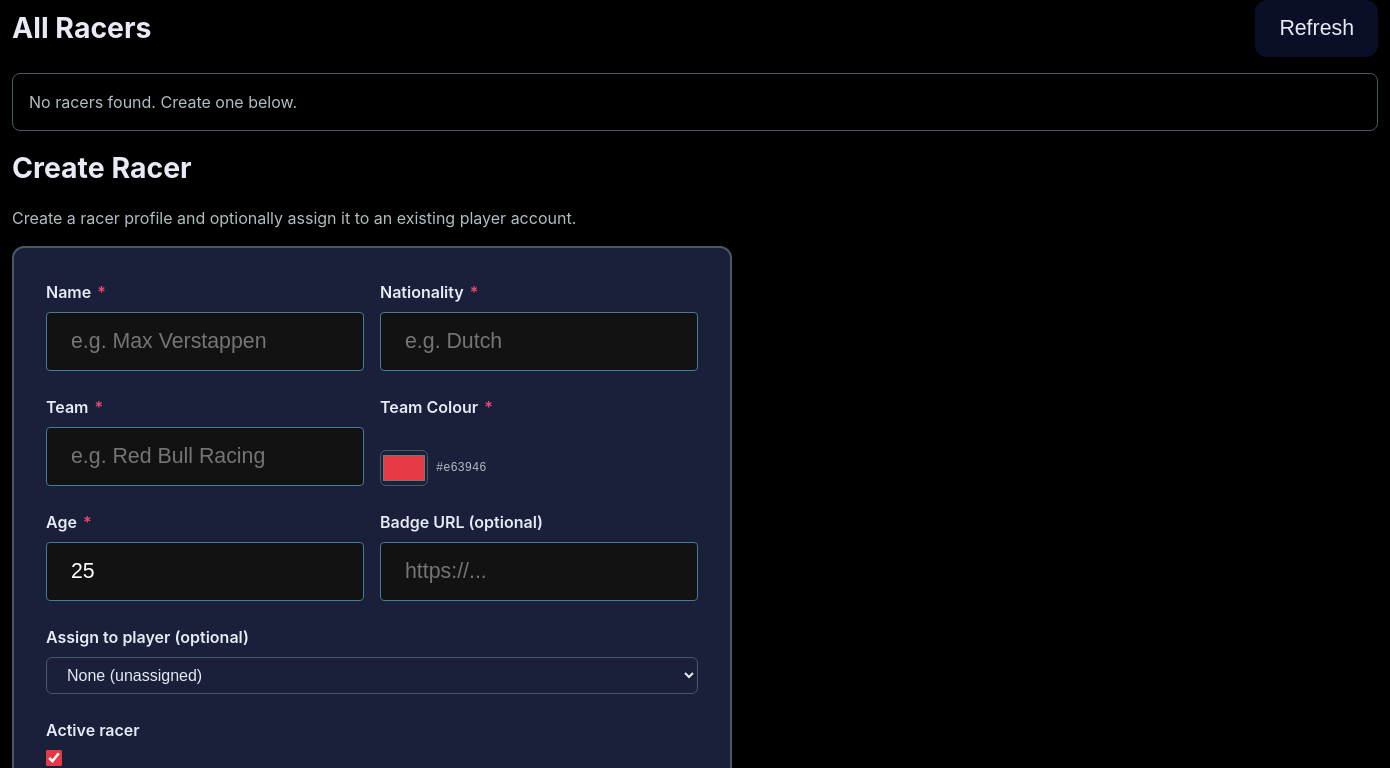
Test: RacerManagementTab › Create racer › clears validation errors when the user fixes the invalid field
Step 1. Type "A" into the field with placeholder "e.g. Max Verstappen" → (205, 341), box top-left (46, 312), bottom-right (364, 371)
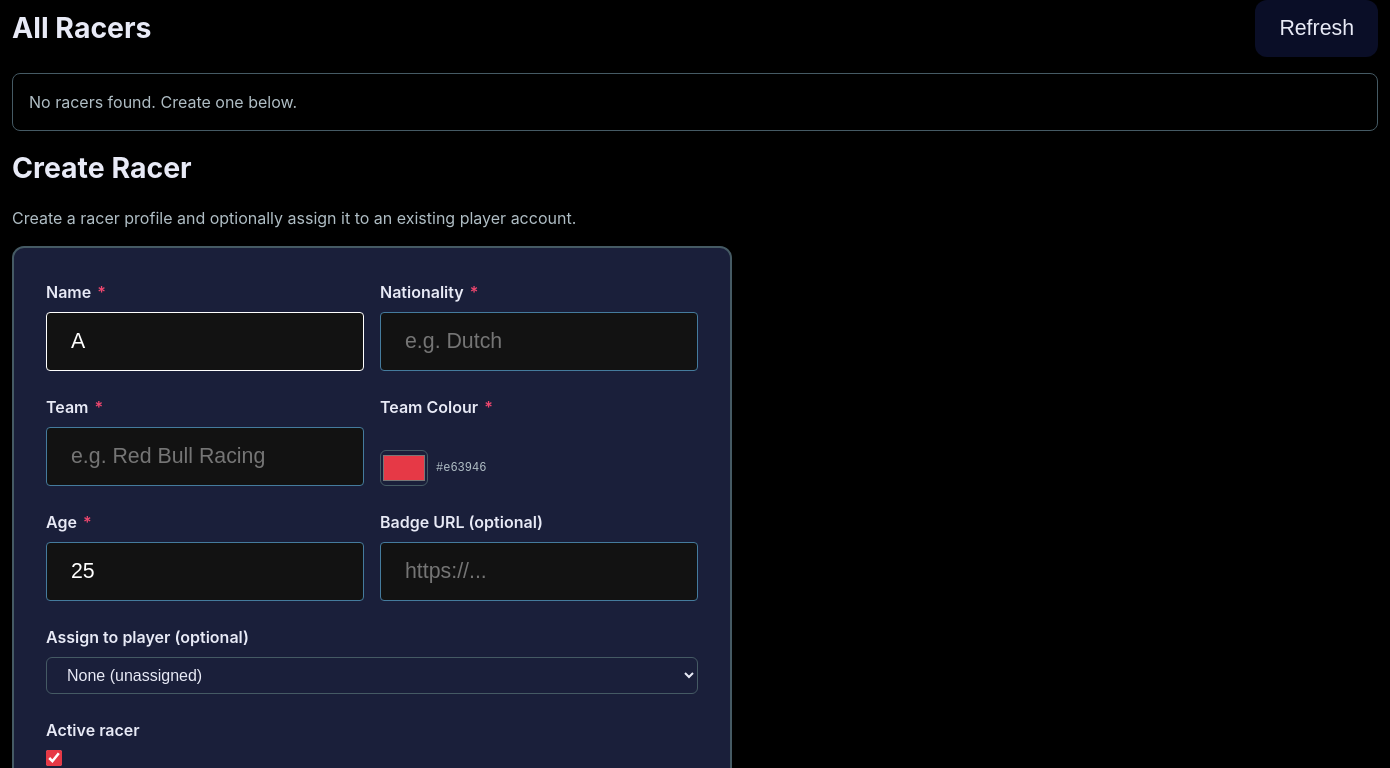
Step 2. Type "Spanish" into the field with placeholder "e.g. Dutch" → (539, 341), box top-left (380, 312), bottom-right (698, 371)
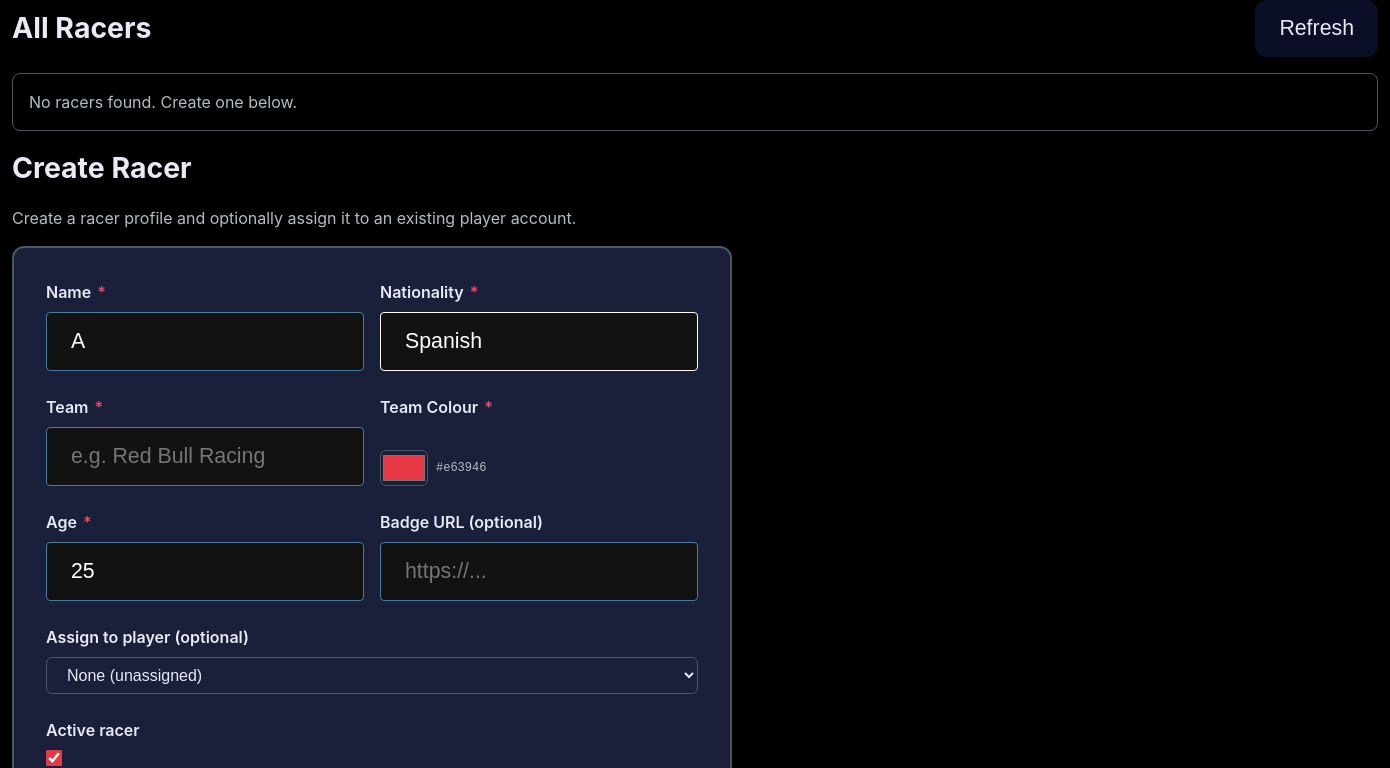
Step 3. Type "Ferrari" into the field with placeholder "e.g. Red Bull Racing" → (205, 456), box top-left (46, 427), bottom-right (364, 486)
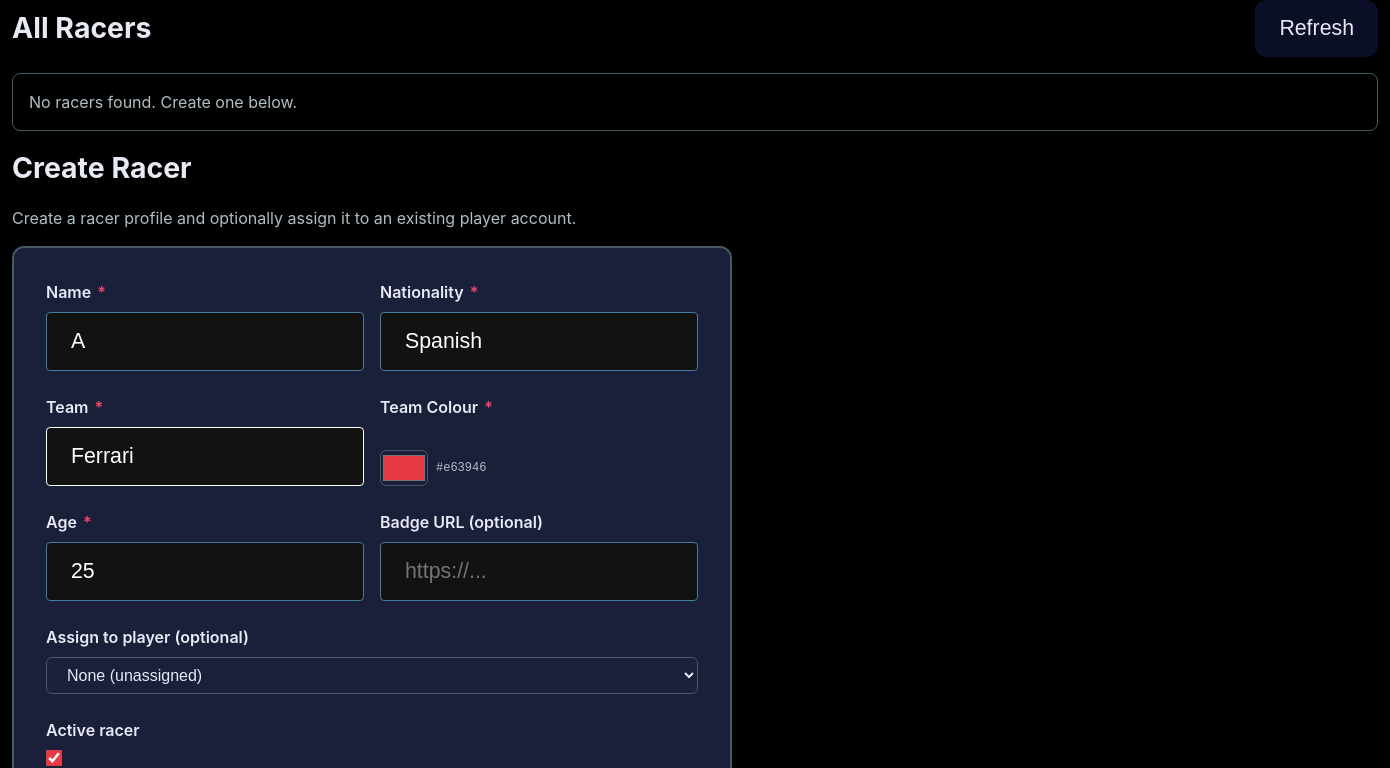
Step 4. Replace the text in the number field labelled "Age *" with "30" → (205, 571), box top-left (46, 542), bottom-right (364, 601)
(page scrolled)
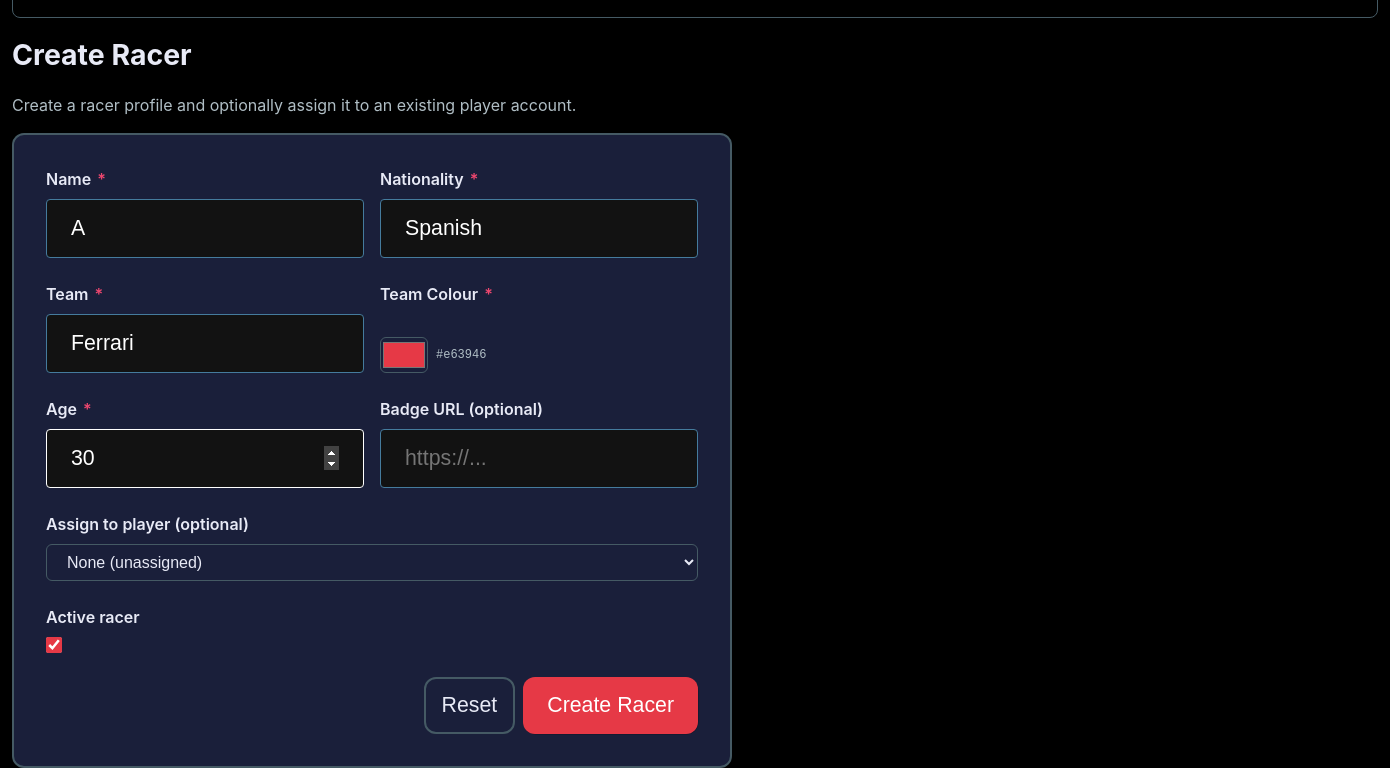
Step 5. Click the button "Create Racer" → (611, 705), box top-left (523, 677), bottom-right (698, 734)
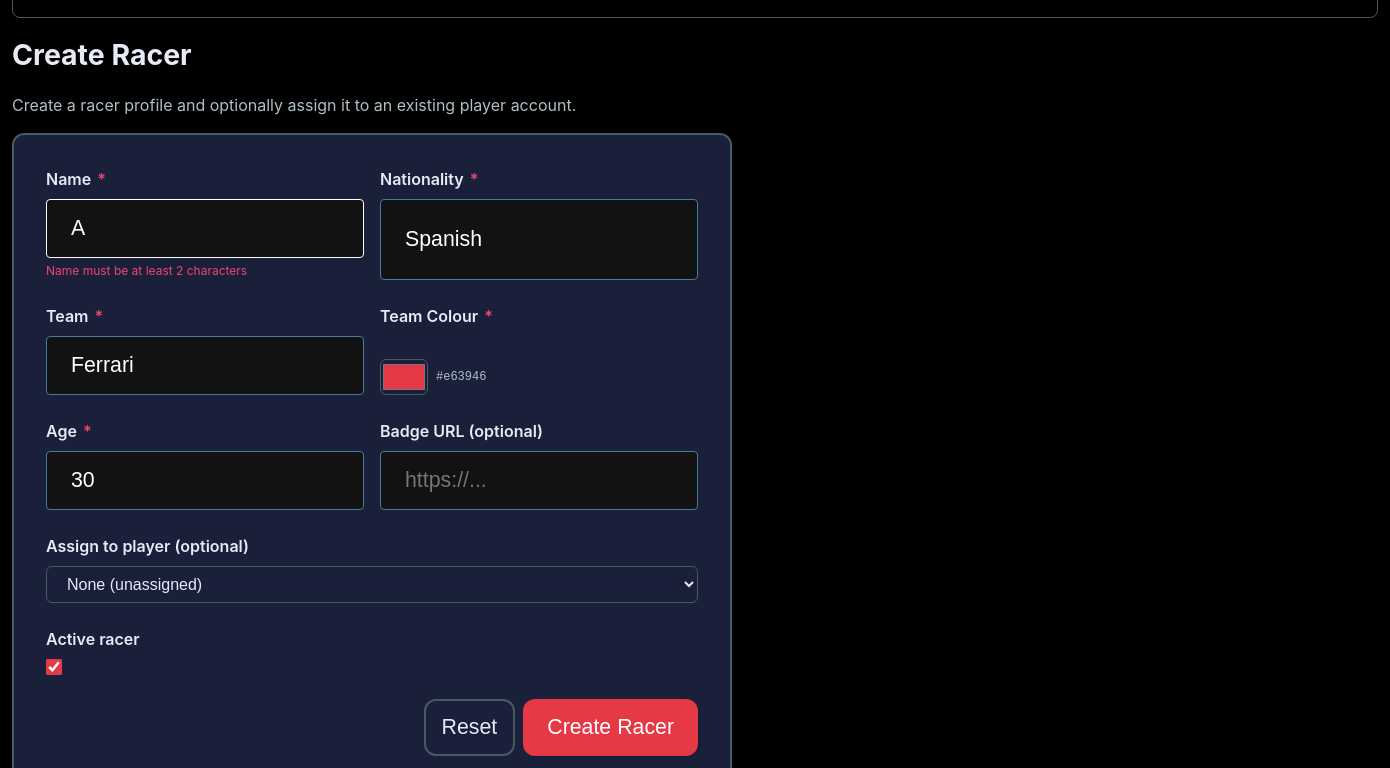
Check: the text "Name must be at least 2 characters" is shown, box top-left (46, 263), bottom-right (247, 278)
Step 6. Type "b" into the field with placeholder "e.g. Max Verstappen" → (205, 228), box top-left (46, 199), bottom-right (364, 258)
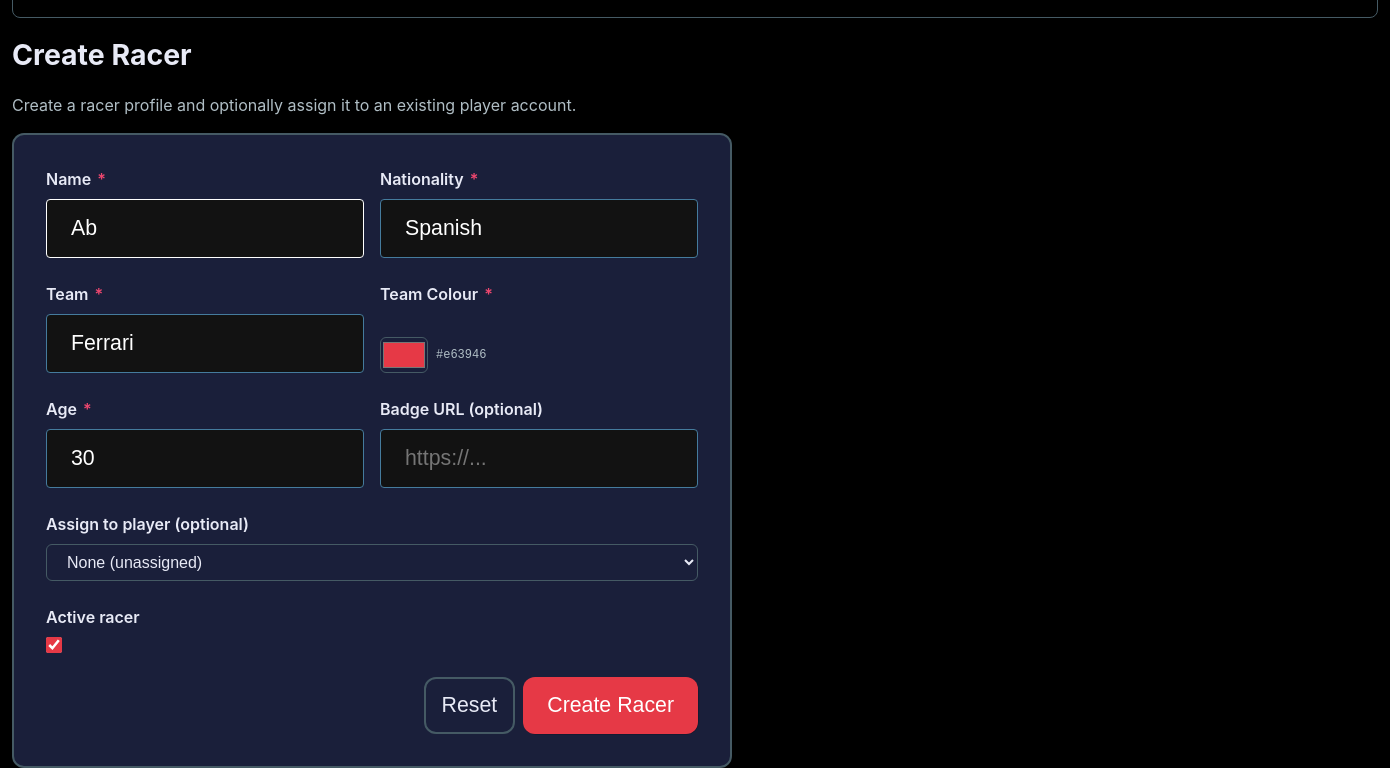
Check: the text "Name must be at least 2 characters" is gone
